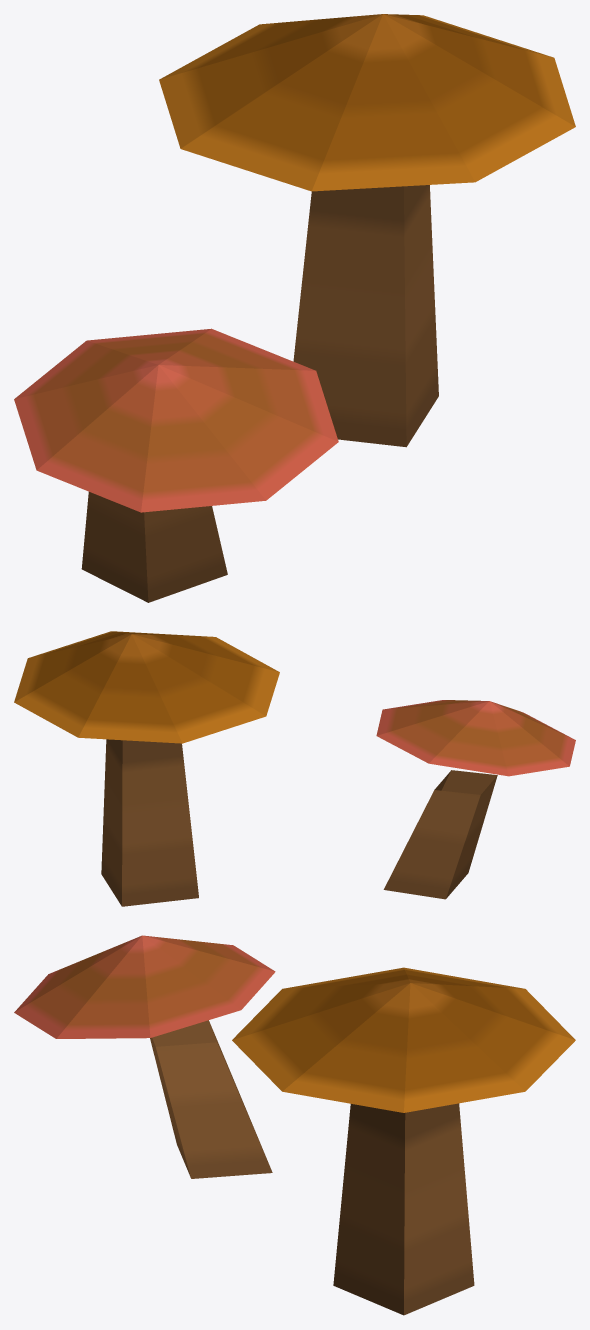
The model's file is um_mushroom006.FBX.
3 renders of one model, top to bottom at view 1: azimuth 30°, elevation 25°; view 2: azimuth 150°, elevation 25°; view 3: azimuth 270°, elevation 25°, orthographic. The views are drawn at different scales.
Parts seen in each view (by area): view 1: um_mushroom006; view 2: um_mushroom006; view 3: um_mushroom006.
Boxes of the visible parts, box(x1,y1,x2,y2) form: um_mushroom006: box(14, 14, 575, 602); um_mushroom006: box(14, 631, 575, 906); um_mushroom006: box(14, 935, 575, 1315).
Size of the model in its own units: 0.9104 by 0.4984 by 0.8128.
